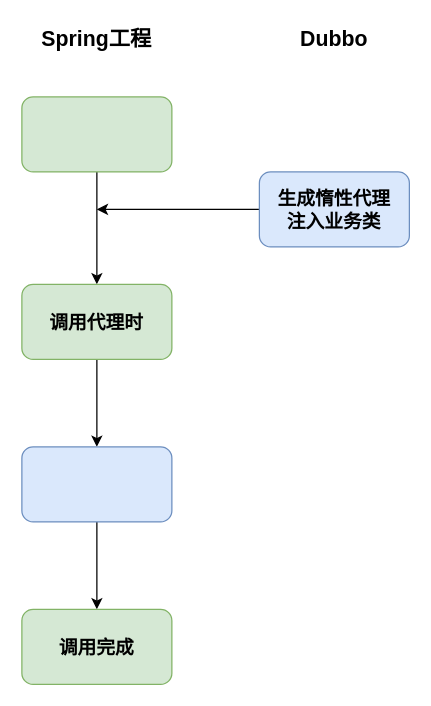
Some shapes in this 431 by 706 pixel diagram are drawn without their labels. The shapes that lost their labels are listed below. From the top down, each one's centre as x and y in pixels, then its label:
At [96,134]: "启动时".
At [96,484]: "惰性代理 创建真代理".
